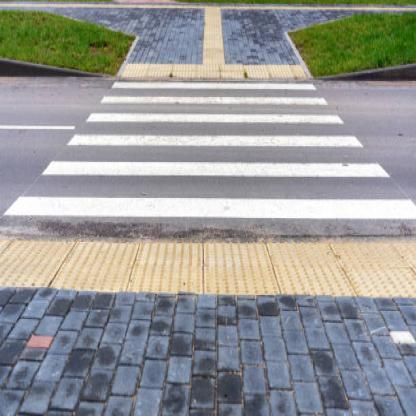podotacti: (0, 231, 414, 295)
